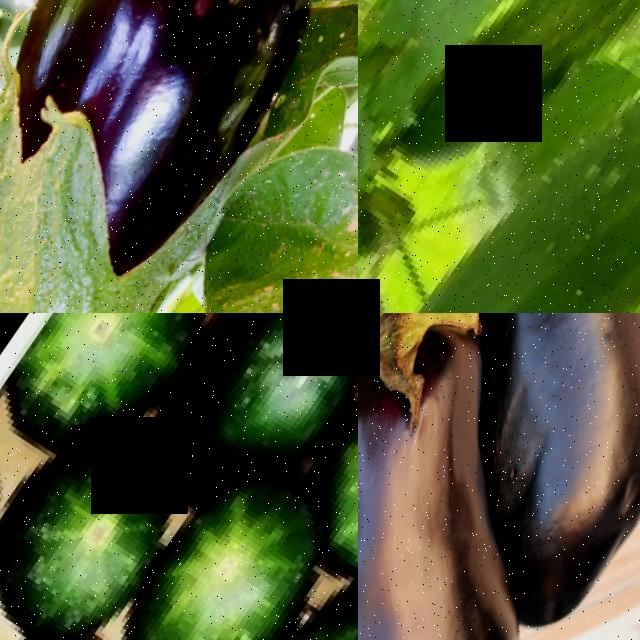cucumber: (372, 0, 640, 313), (381, 0, 640, 227), (0, 394, 217, 640), (97, 445, 358, 640), (142, 313, 358, 513), (0, 313, 235, 496), (0, 438, 61, 640)
eggplant: (0, 0, 358, 313), (358, 313, 640, 640)
